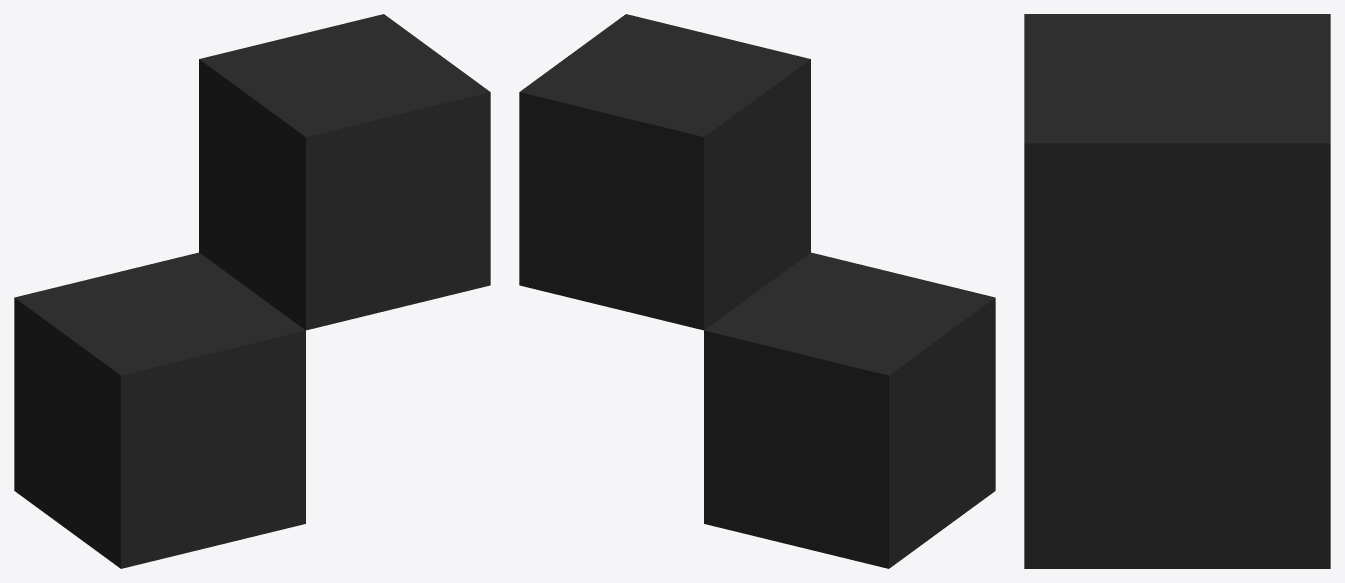
The model's file is TriggerMP40.fbx.
3 views of the same model, side by side, from view 1: azimuth 30°, elevation 25°; view 2: azimuth 150°, elevation 25°; view 3: azimuth 270°, elevation 25° (orthographic). The views are drawn at different scales.
Parts seen in each view (by area): view 1: TriggerMP40.001; view 2: TriggerMP40.001; view 3: TriggerMP40.001.
Part boxes in pixels (x1=…): TriggerMP40.001: x1=14, y1=14, x2=490, y2=568; TriggerMP40.001: x1=519, y1=14, x2=995, y2=568; TriggerMP40.001: x1=1024, y1=14, x2=1330, y2=568.
Size of the model in its own units: 0.2 by 0.2 by 0.1.
1 material, 1 textured.
